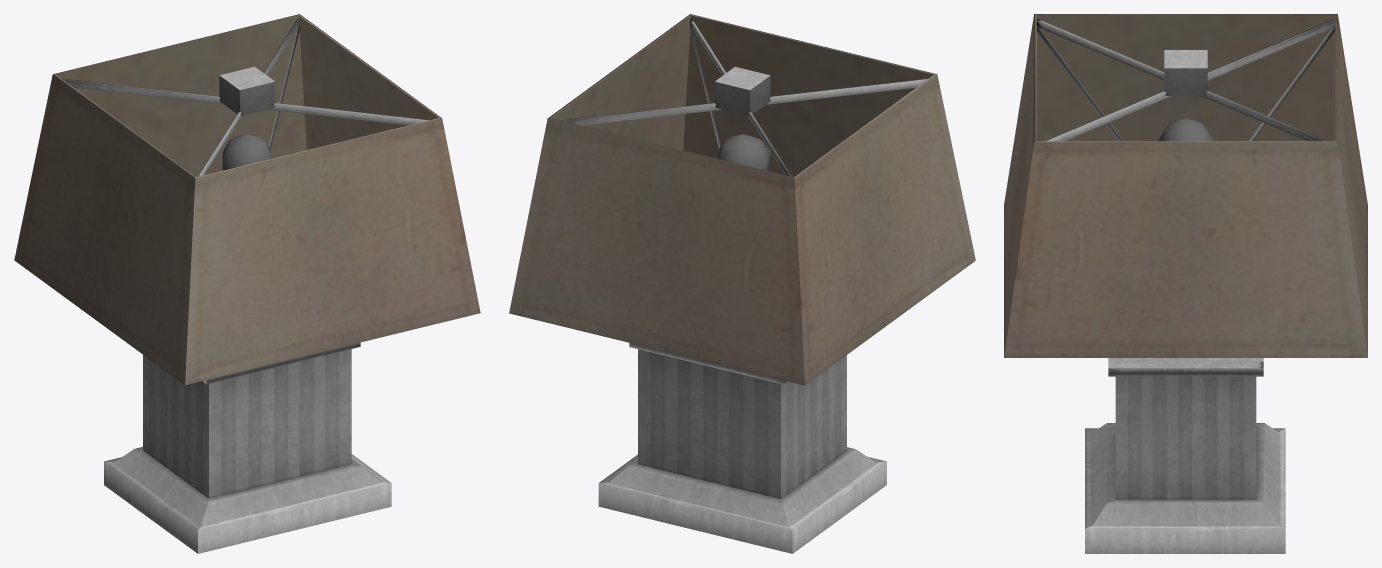
Rendered from furniture_lamp_table2_1_off_lod0.glb.
3 renders of one model, left to right at view 1: azimuth 30°, elevation 25°; view 2: azimuth 150°, elevation 25°; view 3: azimuth 270°, elevation 25°, orthographic. The views are drawn at different scales.
Parts seen in each view (by area): view 1: surf0; view 2: surf0; view 3: surf0.
Part boxes in pixels (x1=…): surf0: x1=14, y1=14, x2=480, y2=553; surf0: x1=509, y1=14, x2=975, y2=553; surf0: x1=1004, y1=14, x2=1367, y2=553.
Bounding box in the file's own units: 16.32 × 22 × 16.32.
